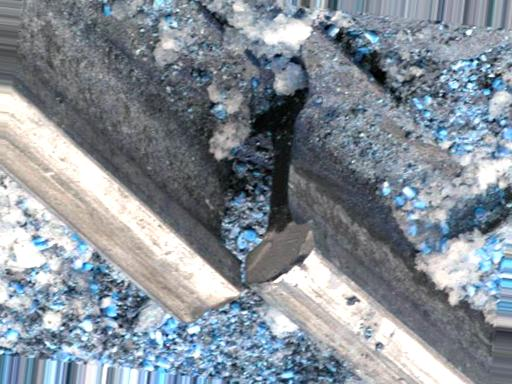tracks_fault: (114, 206, 405, 350)
